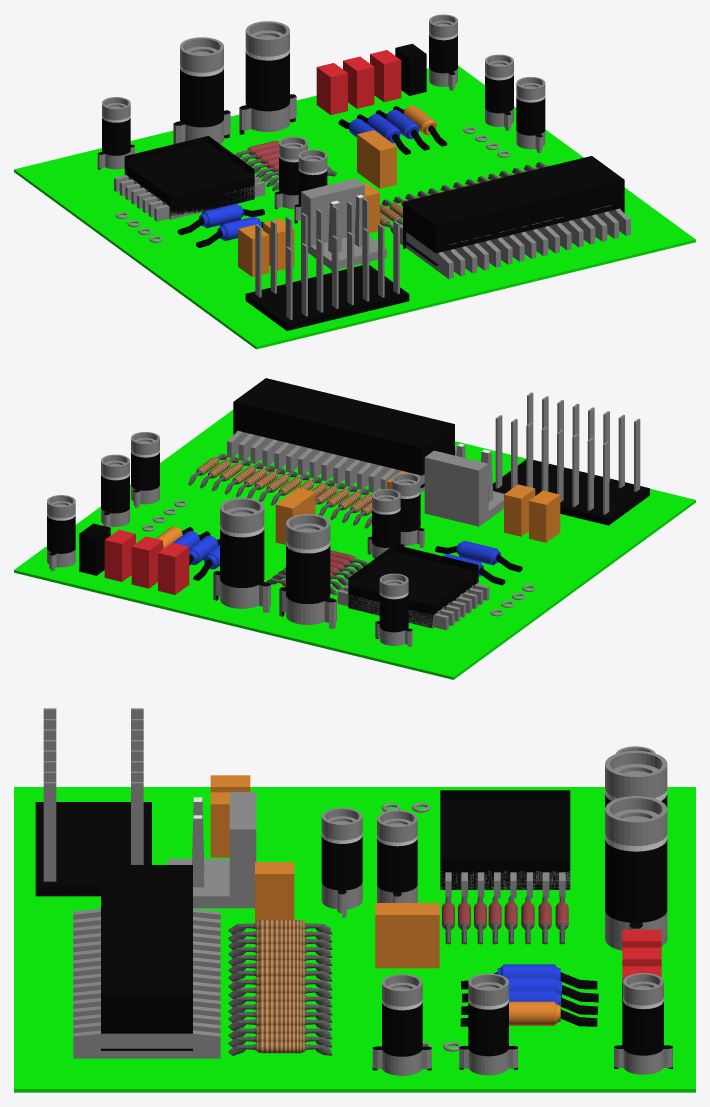
File: CIRCUIT_BOARD.fbx
3 views of the same model, one above another, from view 1: azimuth 30°, elevation 25°; view 2: azimuth 150°, elevation 25°; view 3: azimuth 270°, elevation 25° (orthographic). The views are drawn at different scales.
Parts seen in each view (by area): view 1: Cube, Cube.006, Cube.012, Cube.001, Cylinder.010, Cylinder.036, Cube.005, Cylinder.035, Cylinder.011, Cylinder.033, Cylinder.017, Cube.011 (+14 smaller); view 2: Cube, Cube.006, Cube.012, Cube.001, Cylinder.036, Cylinder.010, Cube.005, Cylinder.011, Cylinder.017, Cylinder.035, Cylinder.033, Cylinder (+10 smaller); view 3: Cube, Cube.006, Cube.001, Cube.012, Cylinder.010, Cube.005, Cylinder.035, Cylinder.033, Cylinder.017, Cube.011, Cylinder.009, Cylinder (+26 smaller).
Boxes of the visible parts, x1,y1,x2,y2 form: Cube: [14, 65, 695, 349]; Cube.006: [400, 156, 630, 278]; Cube.012: [245, 198, 409, 330]; Cube.001: [114, 136, 265, 221]; Cylinder.010: [239, 21, 296, 134]; Cylinder.036: [173, 37, 230, 144]; Cube.005: [301, 178, 386, 269]; Cylinder.035: [516, 77, 545, 152]; Cylinder.011: [97, 97, 134, 169]; Cylinder.033: [485, 54, 513, 130]; Cylinder.017: [429, 14, 457, 90]; Cube.011: [357, 130, 396, 188]; Cube: [14, 410, 695, 679]; Cube.006: [227, 378, 456, 492]; Cube.012: [492, 392, 649, 525]; Cube.001: [337, 544, 489, 630]; Cylinder.036: [279, 514, 336, 628]; Cylinder.010: [213, 498, 270, 612]; Cube.005: [424, 443, 504, 526]; Cylinder.011: [375, 573, 412, 646]; Cylinder.017: [47, 495, 75, 571]; Cylinder.035: [131, 432, 159, 507]; Cylinder.033: [101, 454, 129, 527]; Cylinder: [367, 489, 404, 558]; Cube: [14, 787, 695, 1092]; Cube.006: [73, 865, 220, 1058]; Cube.001: [440, 790, 570, 898]; Cube.012: [35, 708, 151, 896]; Cylinder.010: [605, 796, 667, 950]; Cube.005: [167, 792, 256, 908]; Cylinder.035: [372, 974, 431, 1075]; Cylinder.033: [459, 973, 517, 1075]; Cylinder.017: [614, 973, 672, 1074]; Cube.011: [375, 903, 439, 968]; Cylinder.009: [321, 807, 362, 918]; Cylinder: [377, 810, 417, 902].
Size of the model in its own units: 1424 by 336 by 1359.
